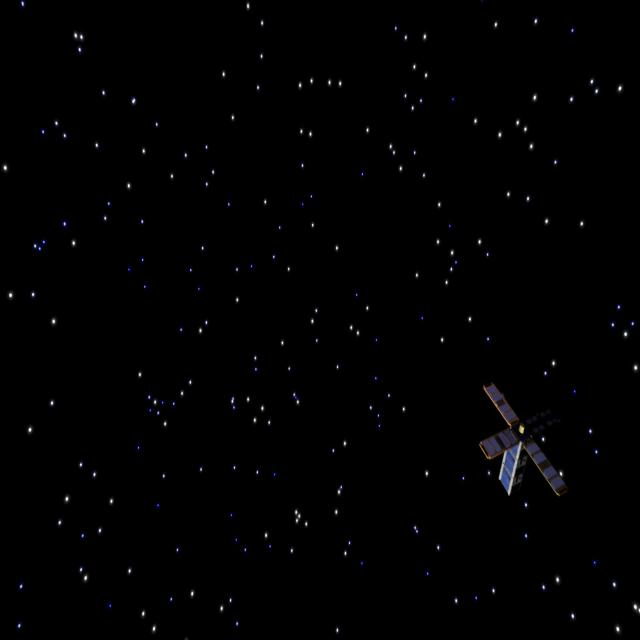medium_debris: (471, 377, 568, 508)
